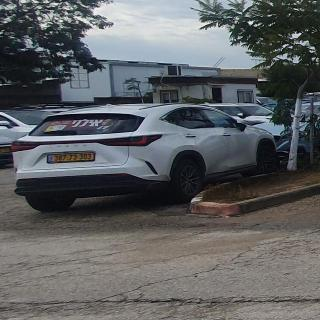LicensePlate: (52, 153, 94, 161)
